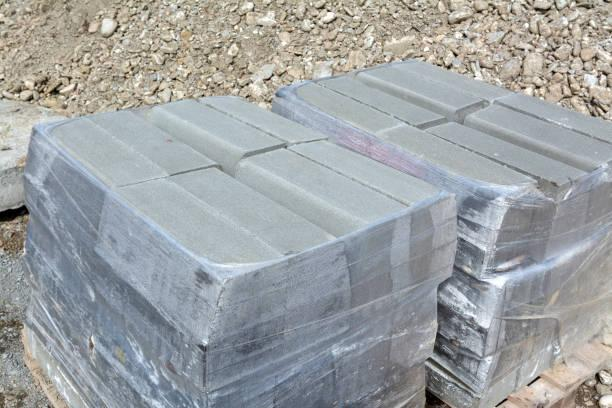Bricks: (89, 201, 226, 346), (202, 241, 367, 344), (115, 177, 275, 277), (173, 162, 340, 257), (232, 146, 414, 231), (379, 117, 537, 203), (431, 117, 595, 189), (18, 139, 104, 267), (353, 202, 453, 310), (462, 102, 611, 173), (292, 138, 447, 205), (38, 116, 169, 190), (155, 95, 287, 156), (101, 104, 208, 172), (327, 72, 442, 127), (369, 61, 483, 116), (288, 81, 397, 138), (208, 94, 323, 147), (508, 94, 611, 146), (402, 54, 517, 100), (481, 188, 542, 267), (547, 184, 602, 249), (597, 159, 609, 219)
